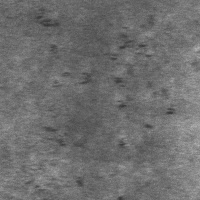rolled-in_scale: (43, 31, 138, 129), (102, 14, 175, 140), (1, 155, 92, 198)
